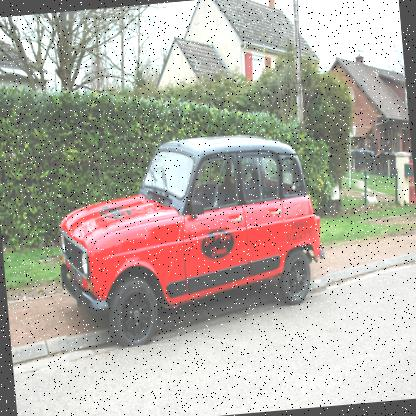Car: (50, 129, 332, 352)
